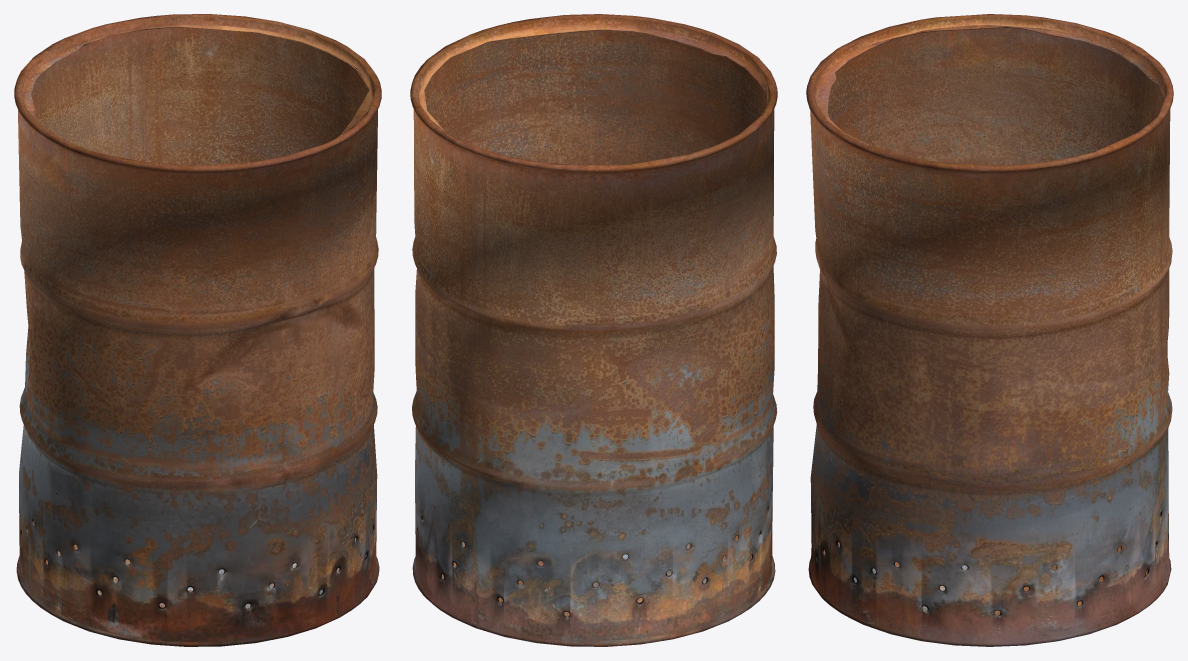
File: barrel_stove.glb
3 views of the same model, side by side, from view 1: azimuth 30°, elevation 25°; view 2: azimuth 150°, elevation 25°; view 3: azimuth 270°, elevation 25° (orthographic).
Visible parts, largest first — view 1: barrel_stove; view 2: barrel_stove; view 3: barrel_stove.
Part boxes in pixels (x1=…): barrel_stove: x1=14, y1=14, x2=381, y2=646; barrel_stove: x1=410, y1=14, x2=777, y2=646; barrel_stove: x1=806, y1=14, x2=1173, y2=646.
Size of the model in its own units: 0.5926 by 0.8556 by 0.5925.
1 material, 1 textured.
